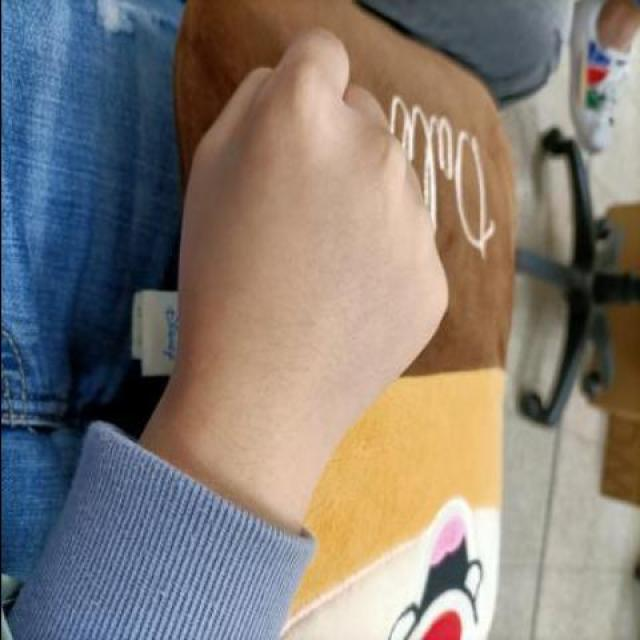fist: (156, 12, 464, 463)
